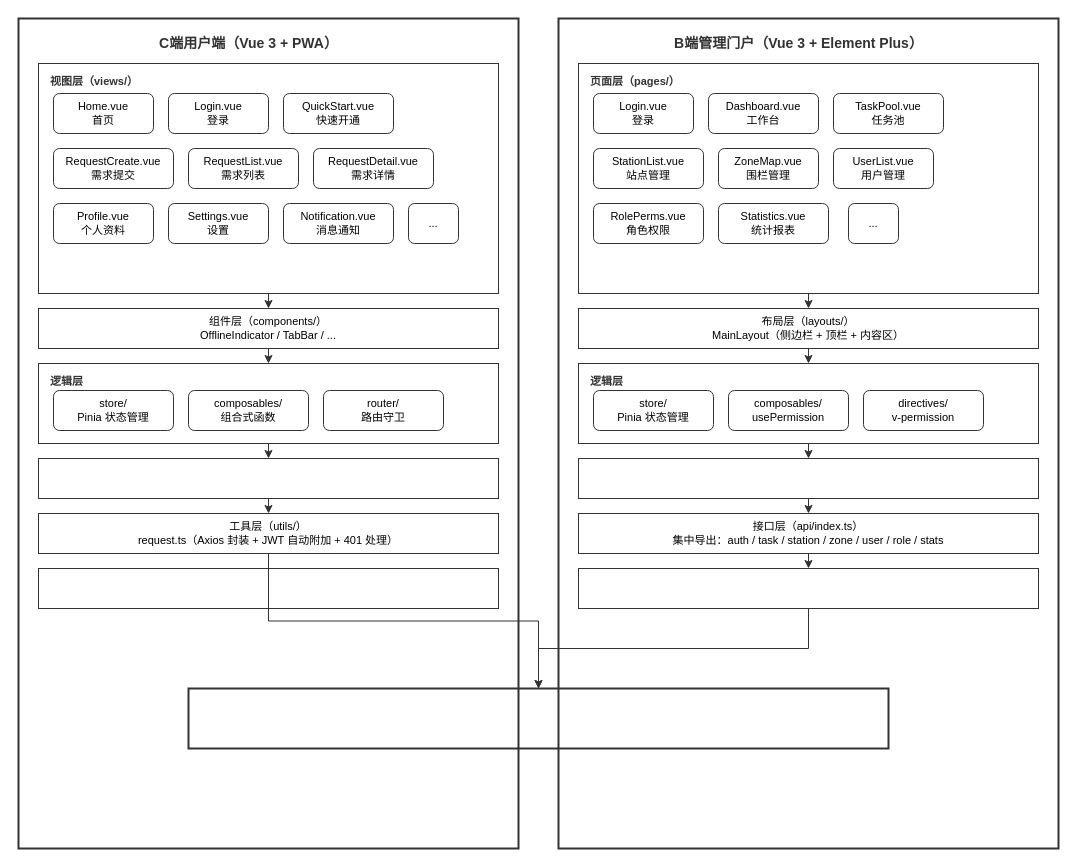
The diagram is 1076 pixels wide and 866 high, and some of its shapes have lost their labels. Here are the shapes that lost their labels. From the top down, the box of each, then its label:
(38, 458, 498, 498): 接口层（api/） auth.ts / request.ts / notification.ts / ...
(578, 458, 1038, 498): 路由层（router/guards/） 权限路由守卫 + 登录守卫 + meta.permission_code
(38, 568, 498, 608): PWA 支持 Service Worker / 离线缓存 / manifest.json
(578, 568, 1038, 608): 工具层（utils/request.ts） Axios 封装 + JWT 自动附加 + 401 自动登出
(187, 687, 889, 749): 后端 API Server（Go + Gin, 端口 8080） /api/v1/c/* (C端接口) /api/v1/b/* (B端接口)
